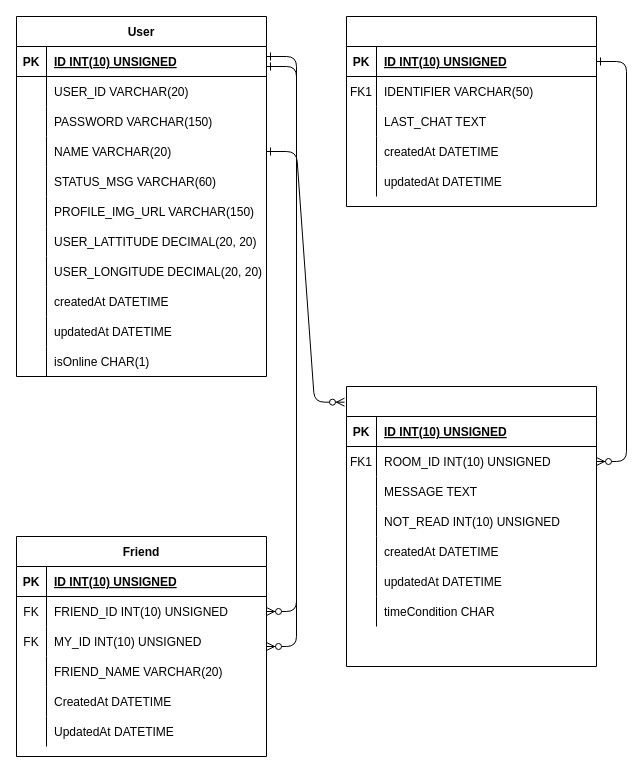
The diagram is 643 pixels wide and 773 high, and some of its shapes have lost their labels. The shapes that lost their labels are listed below. From the top down, each one's box as (x1, y1, x2, y2) in pixels, then its label:
(346, 16, 596, 206): Room
(346, 386, 596, 666): Chat
